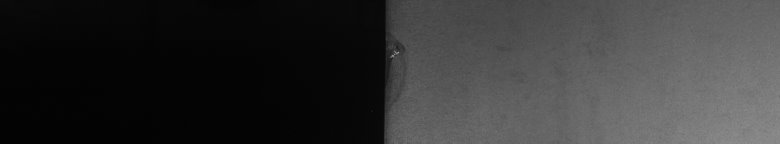hb: (396, 33, 408, 102)
